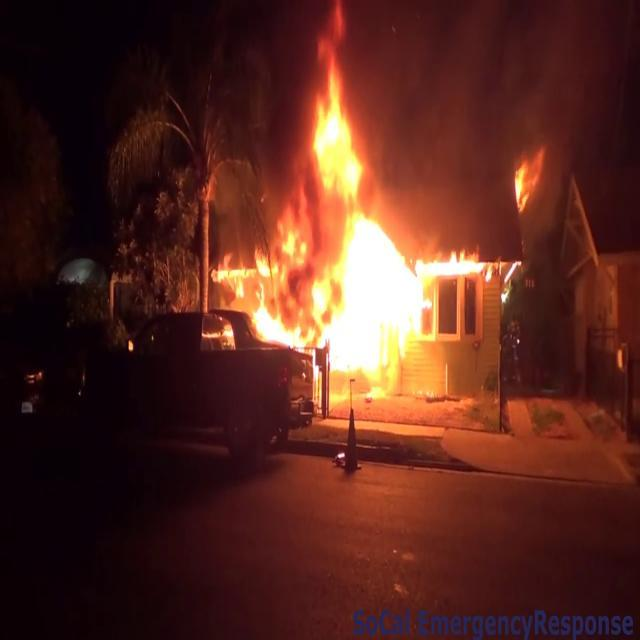Fire: (212, 34, 444, 397), (512, 144, 544, 210)
